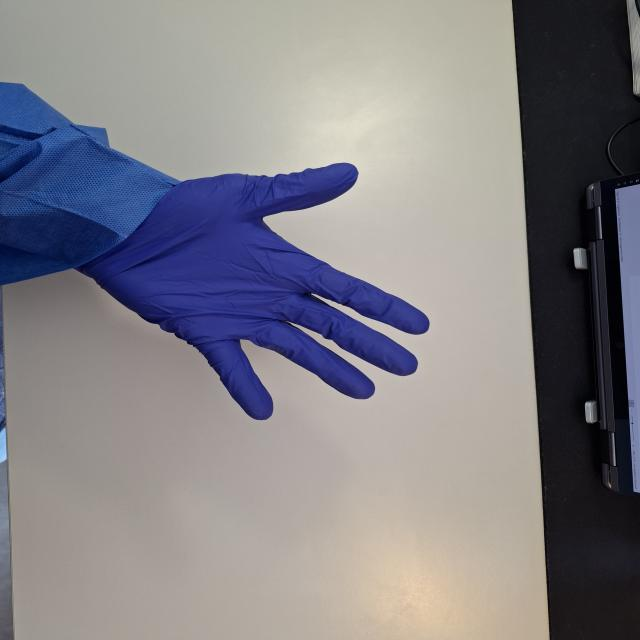glove_on: (74, 160, 434, 423)
